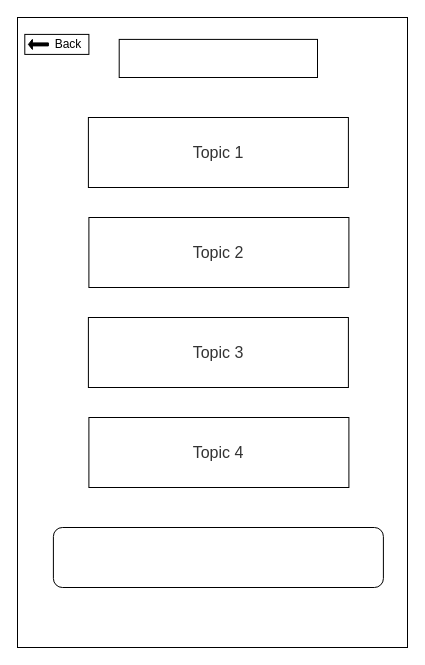
This 425x665 diagram has some shape labels left out. Here are the shapes that lost their labels. From the top down, the centre of each, then its label:
At pixel 218 58: "Recent Calls".
At pixel 217 557: "Show all recent calls".
